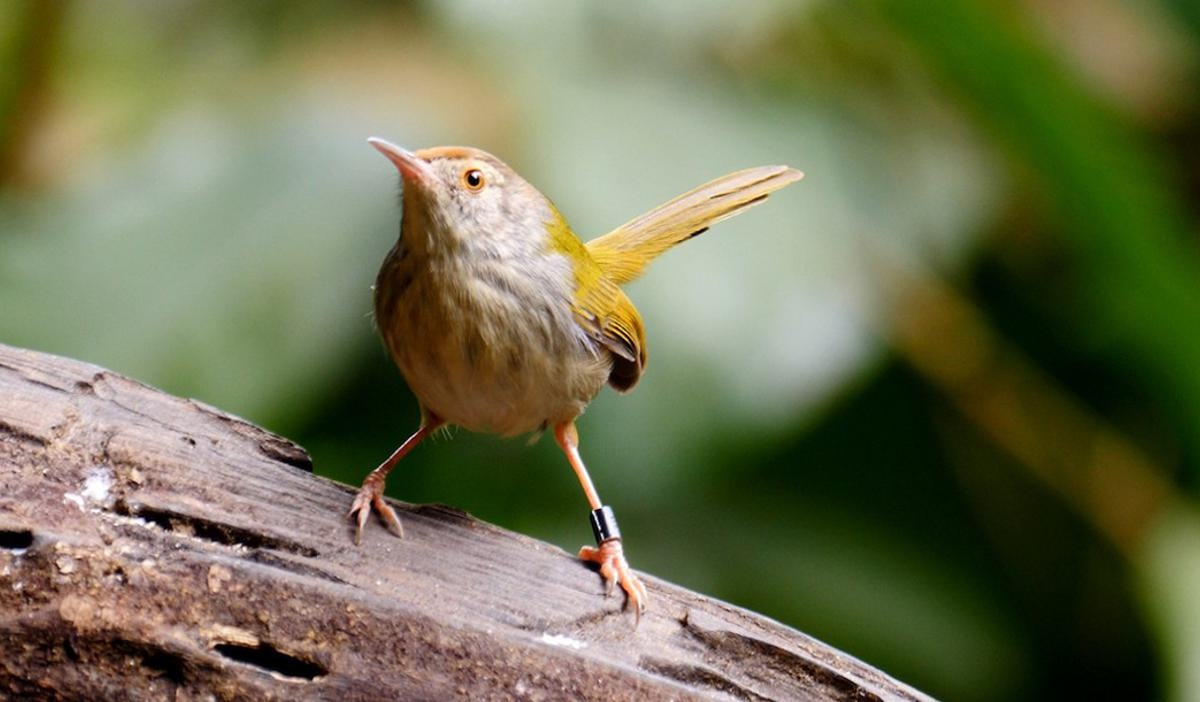tailorbird: (323, 61, 821, 653)
